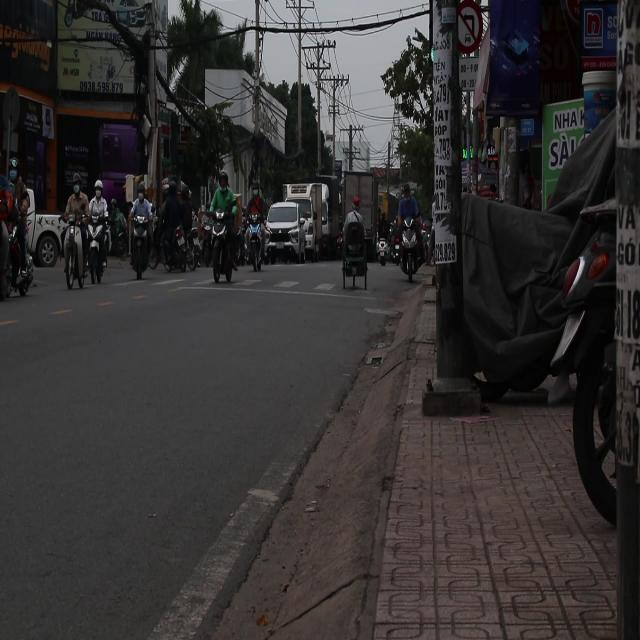car: (265, 202, 306, 260)
motorbike: (209, 203, 239, 286), (394, 217, 426, 281), (63, 210, 85, 301), (131, 208, 149, 292), (91, 210, 107, 290), (377, 235, 396, 265)
truck: (284, 182, 338, 253)
